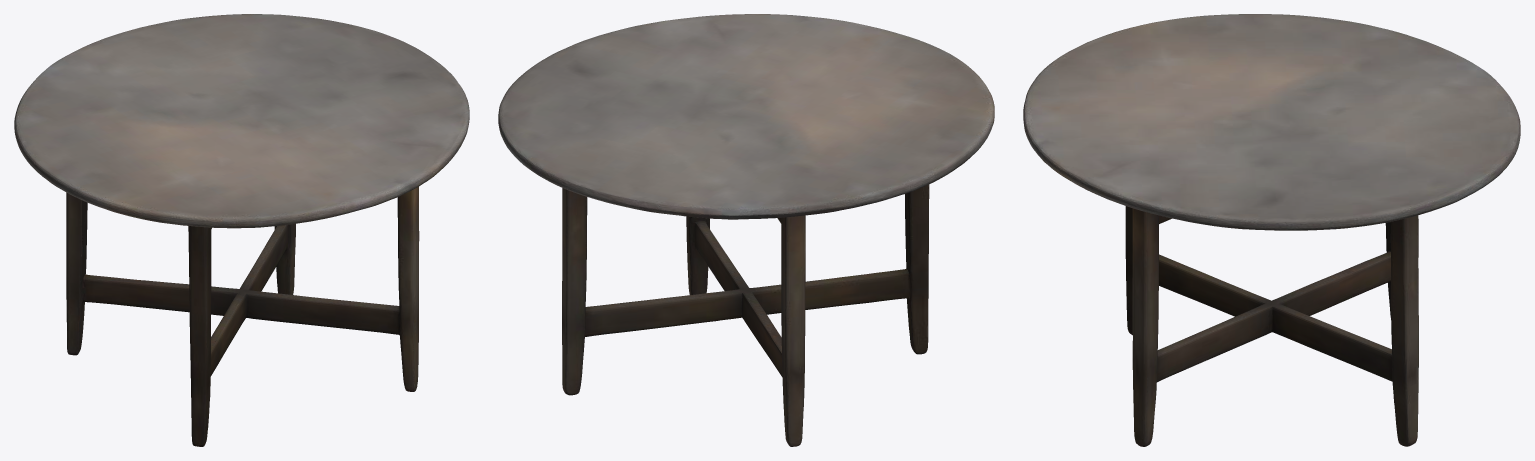
File: small_wooden_table_000.glb
3 renders of one model, left to right at view 1: azimuth 30°, elevation 25°; view 2: azimuth 150°, elevation 25°; view 3: azimuth 270°, elevation 25°, orthographic. The views are drawn at different scales.
Parts seen in each view (by area): view 1: phase2_final_small_wooden_table_000.obj; view 2: phase2_final_small_wooden_table_000.obj; view 3: phase2_final_small_wooden_table_000.obj.
Boxes of the visible parts, x1,y1,x2,y2 form: phase2_final_small_wooden_table_000.obj: [14, 14, 469, 446]; phase2_final_small_wooden_table_000.obj: [498, 14, 994, 446]; phase2_final_small_wooden_table_000.obj: [1023, 14, 1520, 446].
Size of the model in its own units: 0.3451 by 0.2091 by 0.3451.
Materials: 1 (1 with a texture image).
